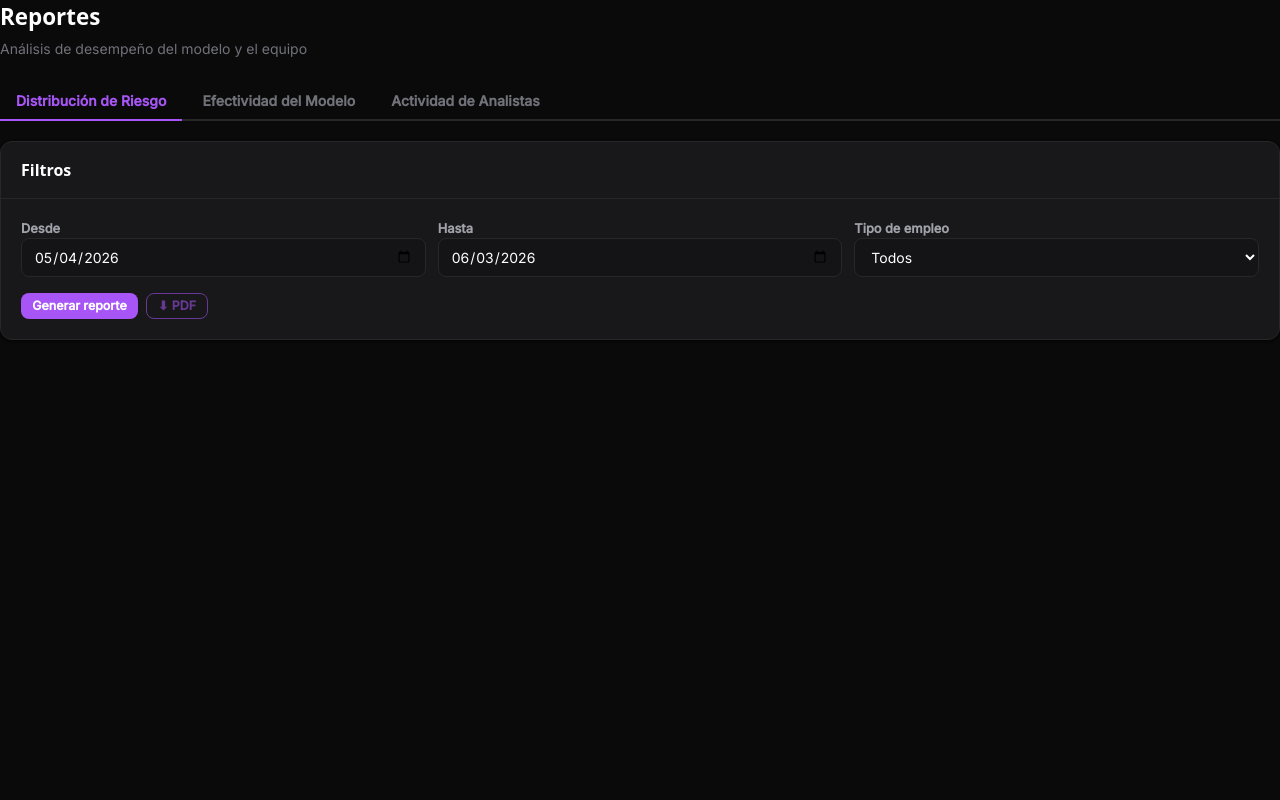
it: RiskDistributionReport — body content › renders 3 StatCard components in the summary section after data load
The image size is (1280, 800).
Click the button "Generar reporte". click: x=79, y=306
box: [21, 293, 138, 319]
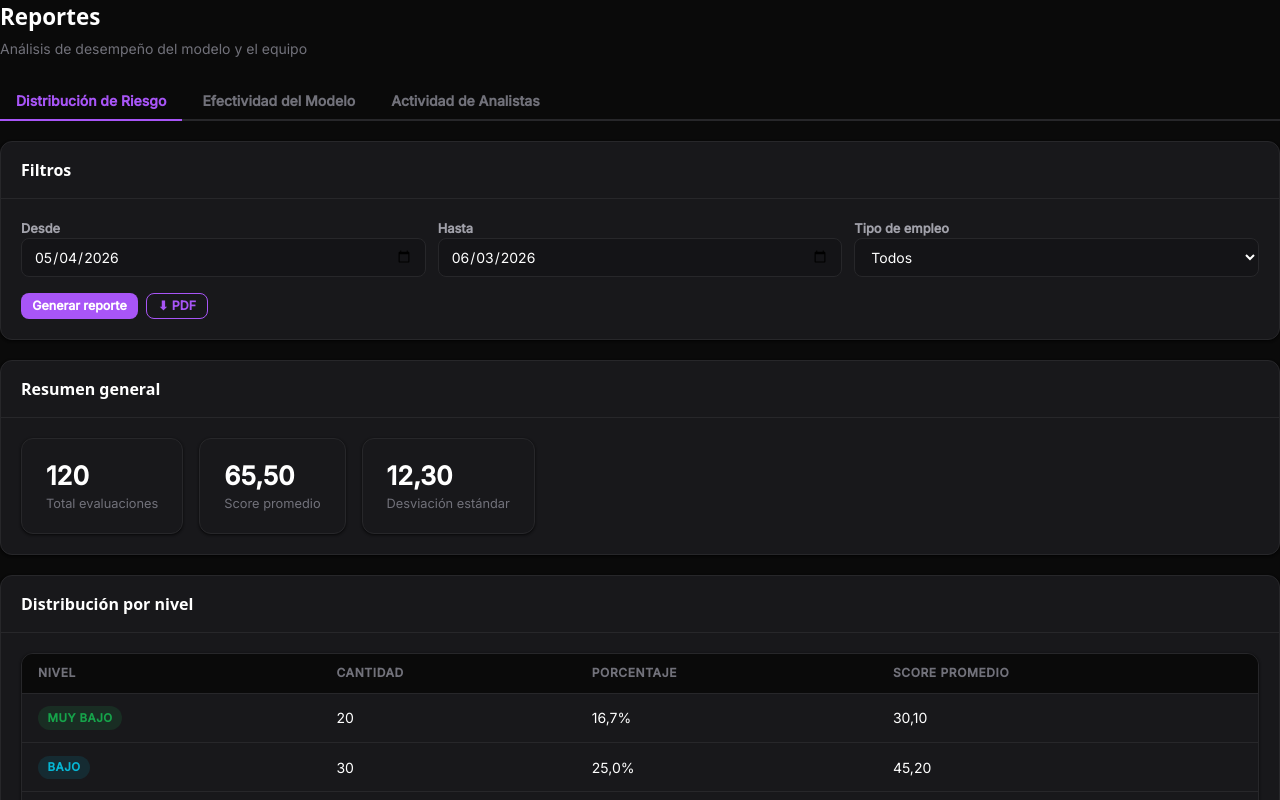
Result: the text "120" is shown at [46, 460, 89, 491]
